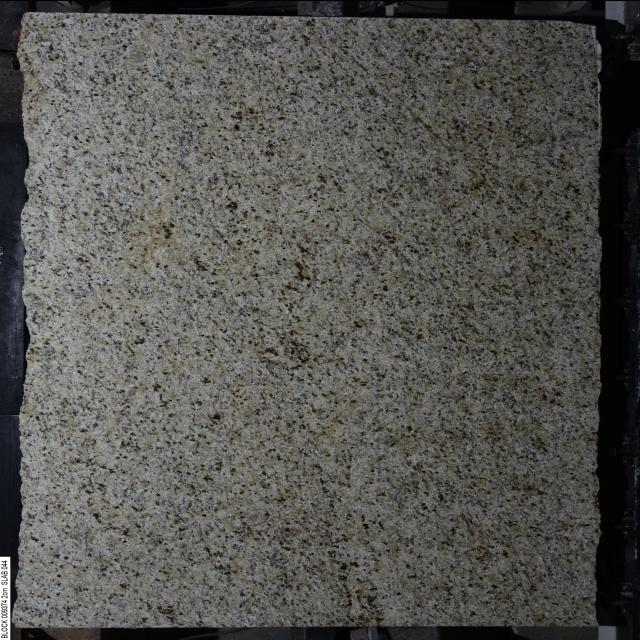chapa: (15, 12, 601, 626)
